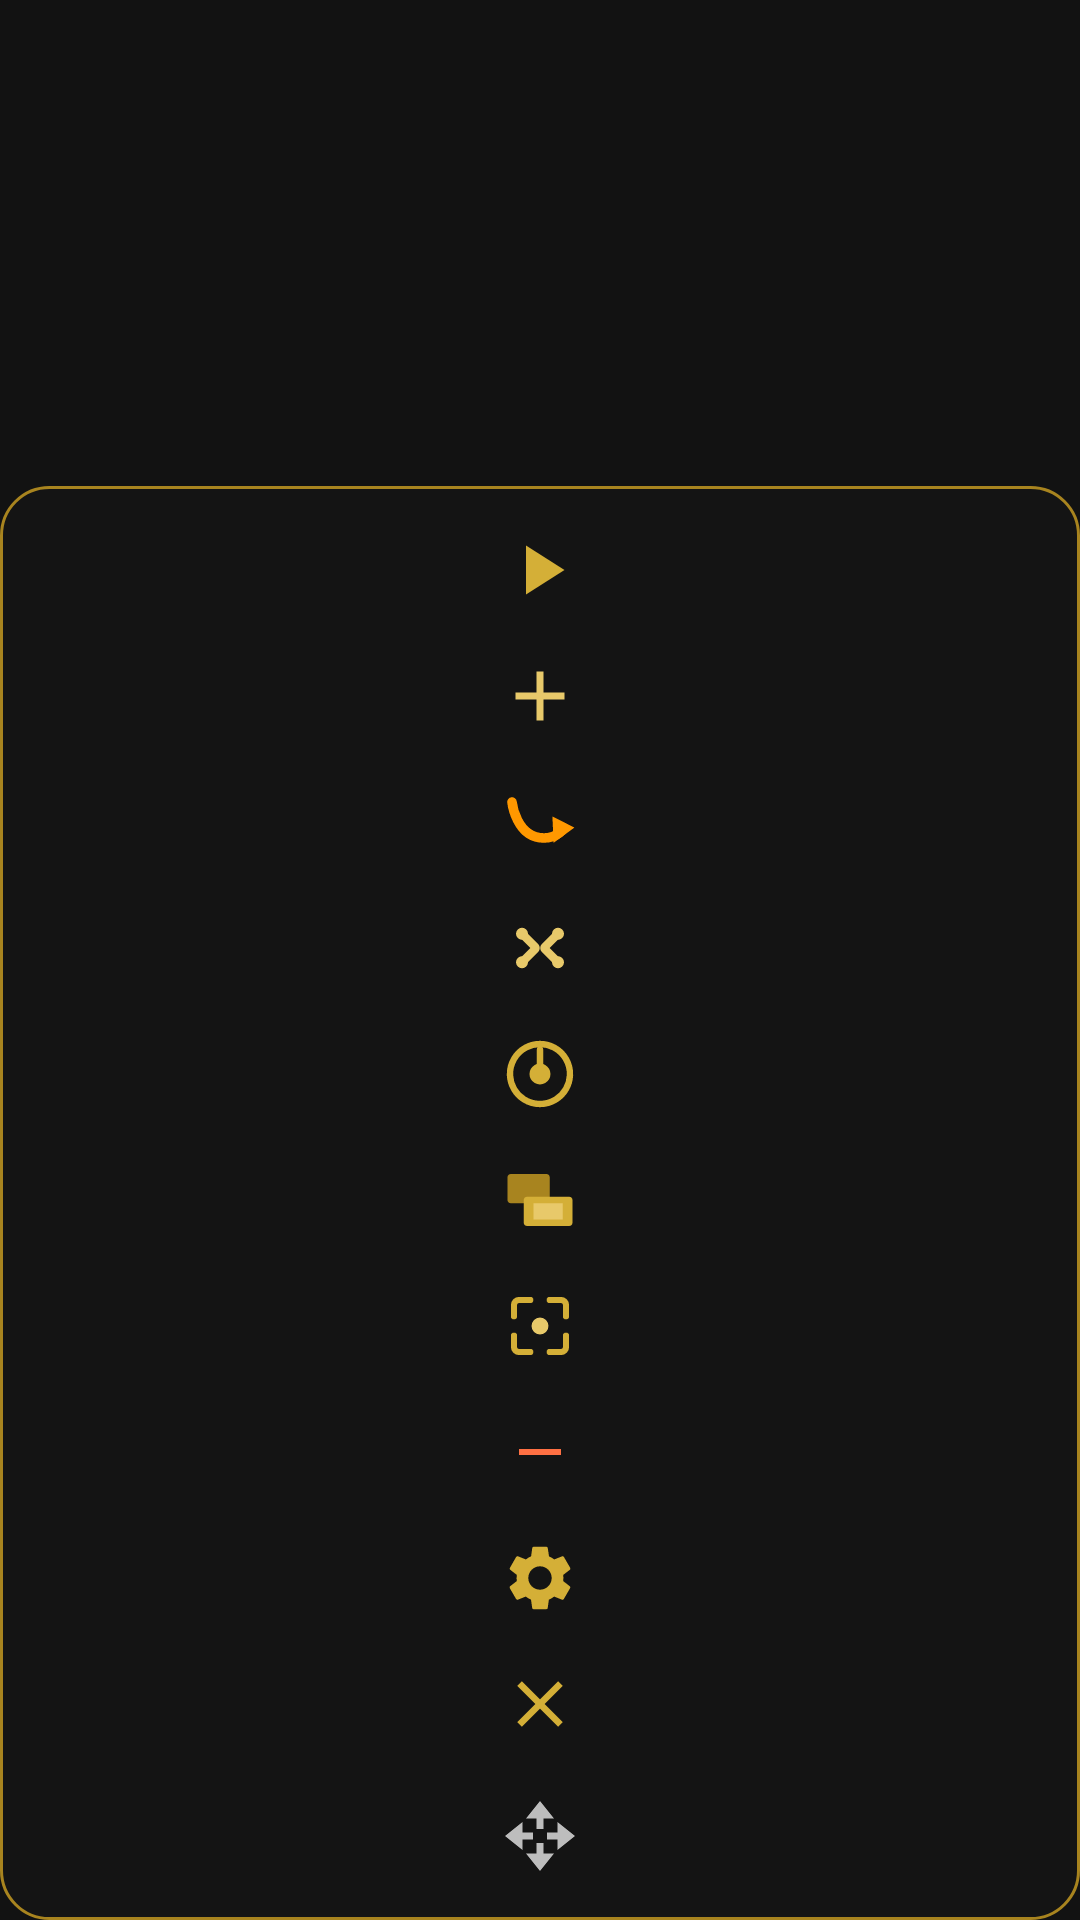

Icon click points for this 1080px x 1920px phone screenshot, format [x,y]:
Add click: [540,696]
Blocks: [540,1200]
Close: [540,1704]
Image detectors: [540,1326]
Joystick: [539,1074]
Move bar: [540,1836]
Pinch zoom: [540,948]
Play: [545,570]
Settings: [540,1578]
Swipe: [540,820]
